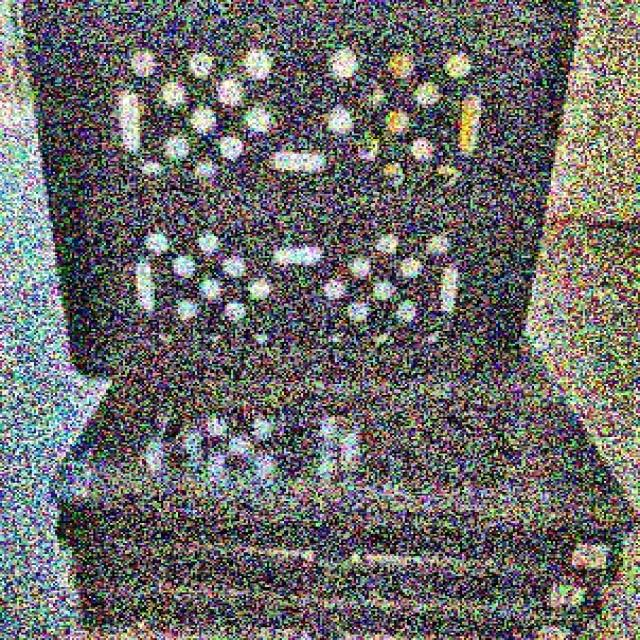igps: (0, 0, 590, 384), (36, 327, 640, 640)
